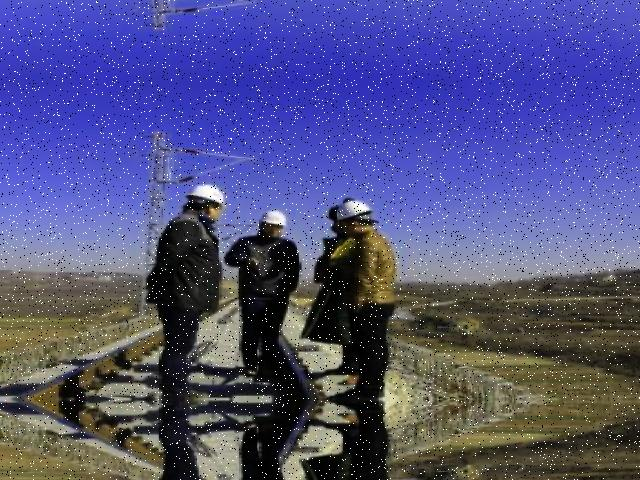Helmet: (333, 196, 380, 231), (183, 182, 230, 212), (257, 205, 293, 231)
